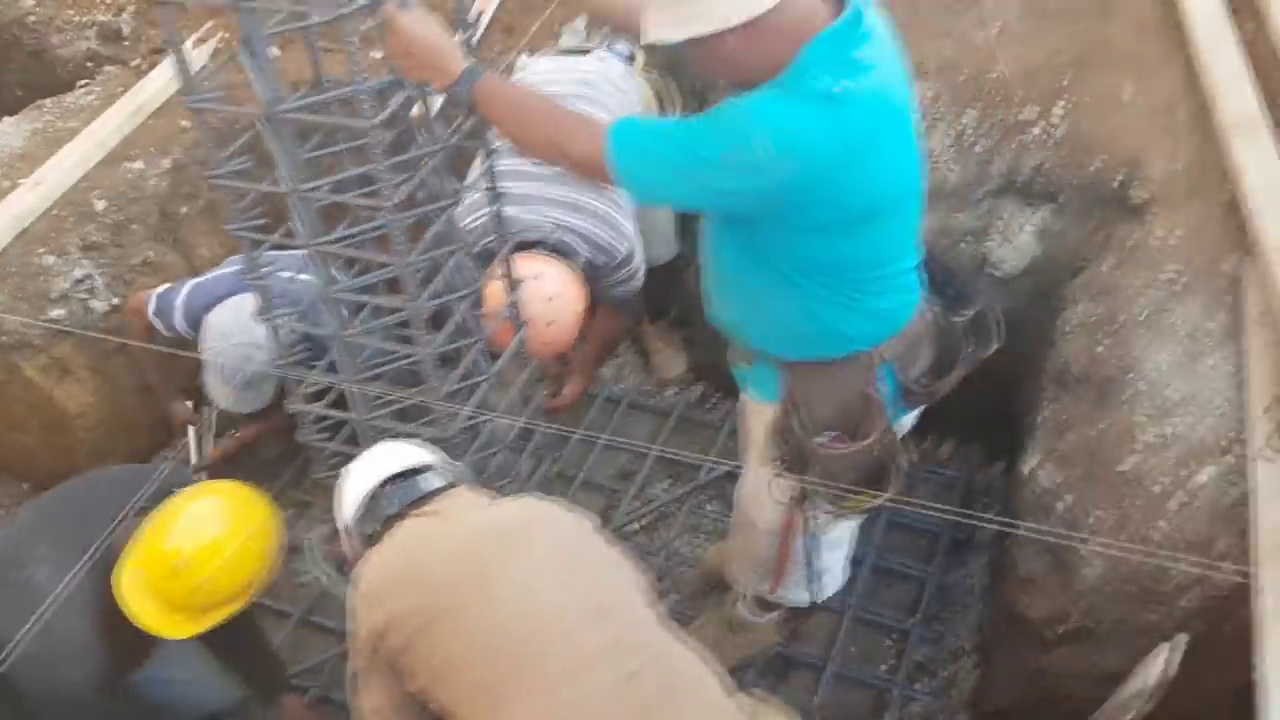helmet: (114, 480, 280, 644), (325, 438, 451, 548), (480, 251, 590, 356)
helmet-off: (630, 0, 852, 111), (198, 293, 291, 406)
helmet-on: (91, 476, 291, 648), (326, 437, 487, 576), (472, 221, 604, 359)
person: (400, 0, 950, 666), (322, 438, 745, 720), (450, 0, 678, 411), (0, 450, 302, 720), (123, 243, 414, 467)
